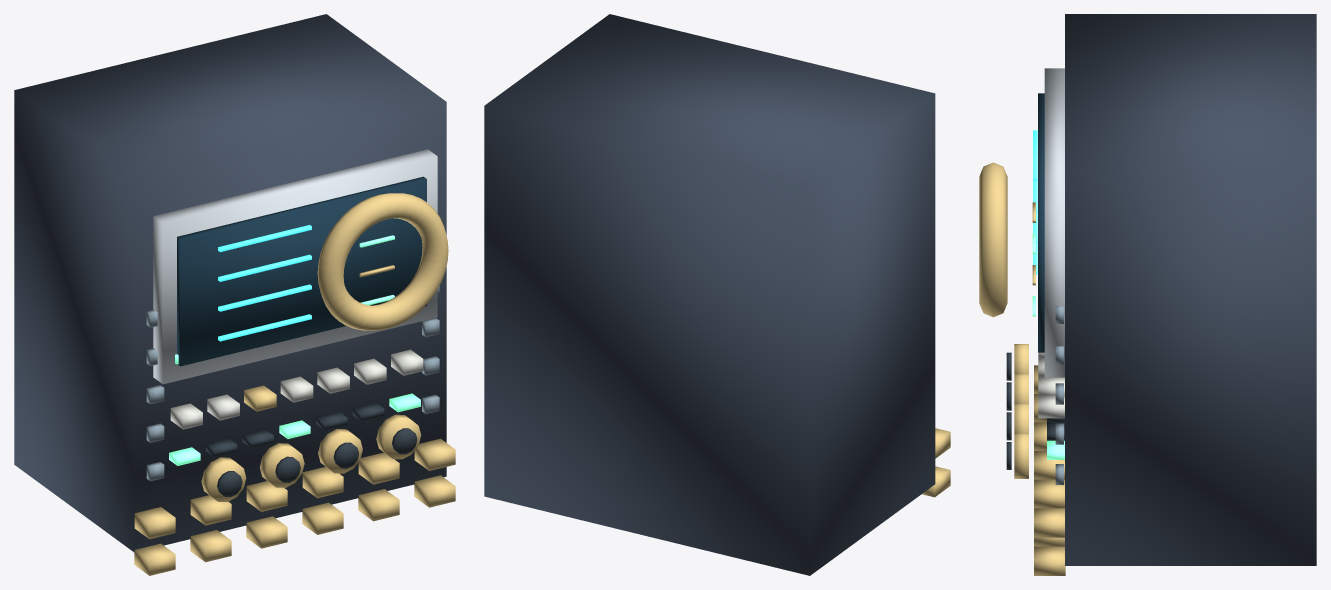
Rendered from 78_L92_TetherForceTransducer.fbx.
3 renders of one model, left to right at view 1: azimuth 30°, elevation 25°; view 2: azimuth 150°, elevation 25°; view 3: azimuth 270°, elevation 25°, orthographic. The views are drawn at different scales.
Visible parts, largest first — view 1: L92_TetherForceTransducer, L92_TetherForceTransducer_Part_0016, L92_TetherForceTransducer_Part_0014, L92_TetherForceTransducer_Part_0012, L92_TetherForceTransducer_Part_0010; view 2: L92_TetherForceTransducer; view 3: L92_TetherForceTransducer, L92_TetherForceTransducer_Part_0016, L92_TetherForceTransducer_Part_0012, L92_TetherForceTransducer_Part_0014, L92_TetherForceTransducer_Part_0010.
Boxes of the visible parts, x1=… form: L92_TetherForceTransducer: x1=14, y1=14, x2=455, y2=575; L92_TetherForceTransducer_Part_0016: x1=376, y1=414, x2=420, y2=459; L92_TetherForceTransducer_Part_0014: x1=318, y1=429, x2=362, y2=473; L92_TetherForceTransducer_Part_0012: x1=259, y1=443, x2=304, y2=487; L92_TetherForceTransducer_Part_0010: x1=201, y1=457, x2=246, y2=501; L92_TetherForceTransducer: x1=484, y1=14, x2=950, y2=575; L92_TetherForceTransducer: x1=979, y1=14, x2=1316, y2=575; L92_TetherForceTransducer_Part_0016: x1=1014, y1=433, x2=1028, y2=478; L92_TetherForceTransducer_Part_0012: x1=1014, y1=373, x2=1028, y2=403; L92_TetherForceTransducer_Part_0014: x1=1014, y1=403, x2=1028, y2=433; L92_TetherForceTransducer_Part_0010: x1=1014, y1=344, x2=1028, y2=373.
Size of the model in its own units: 1.07 by 1.27 by 0.957.
